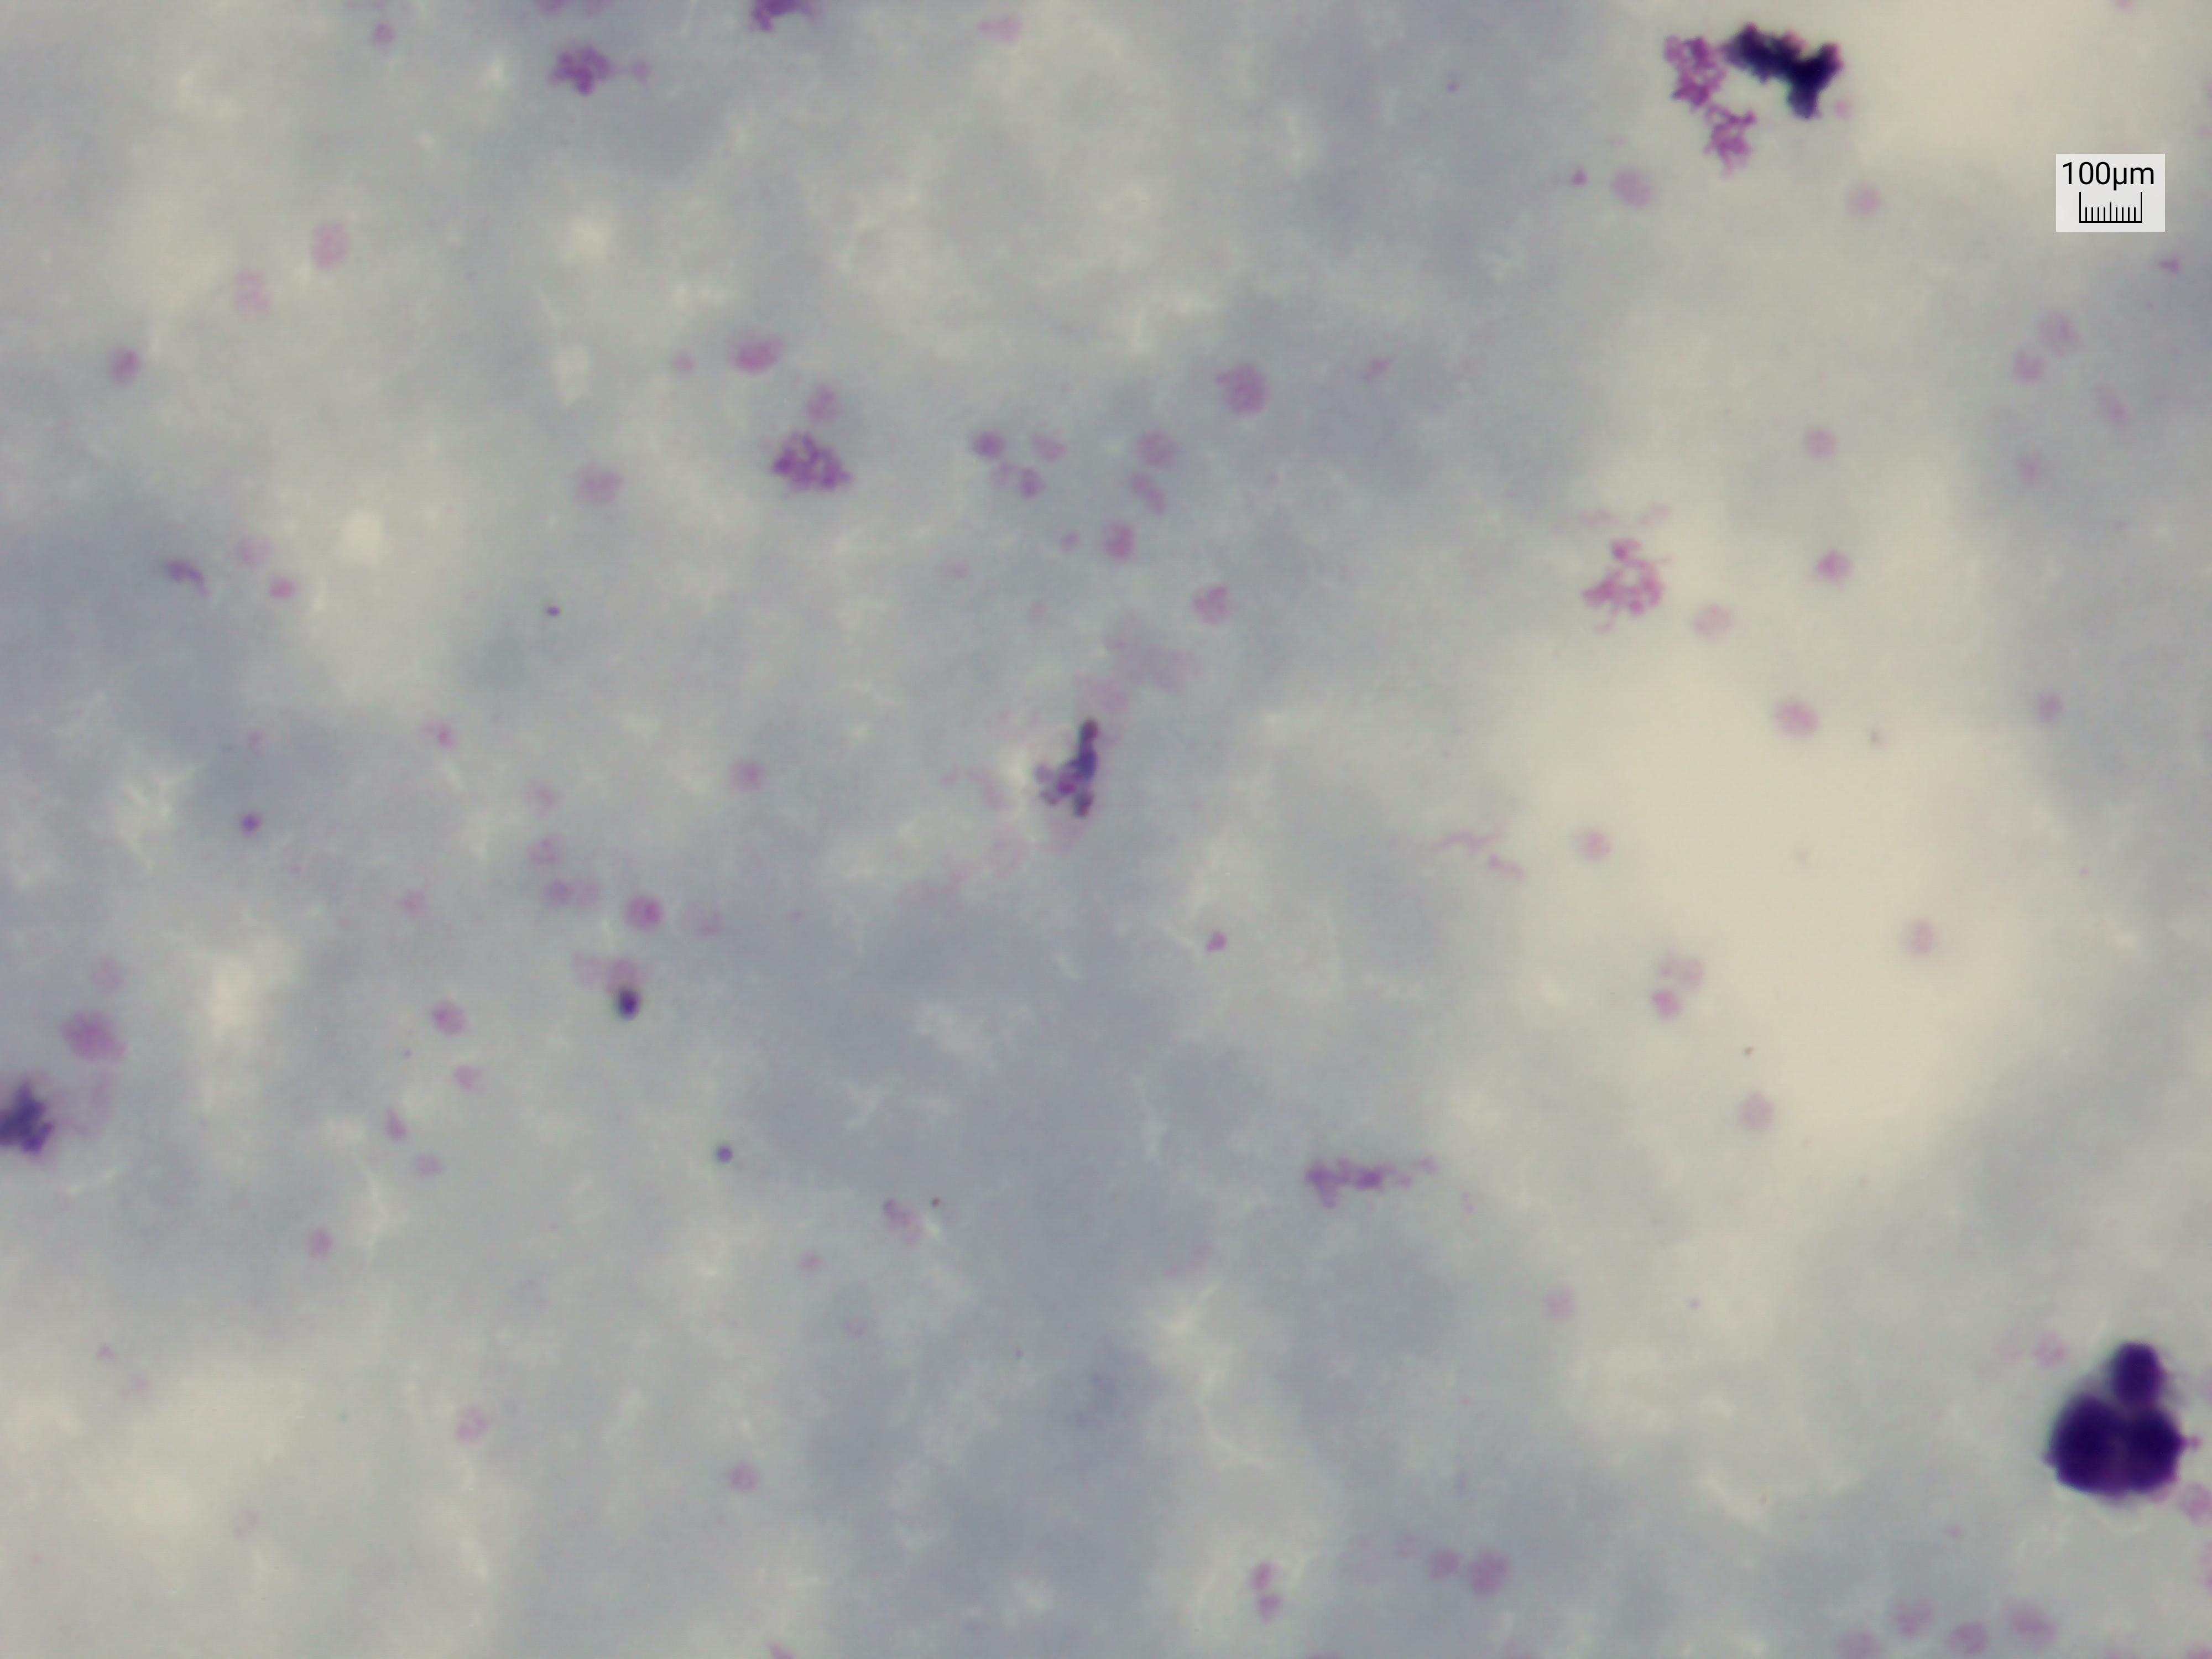p.vivax: (988, 669, 1139, 880)
